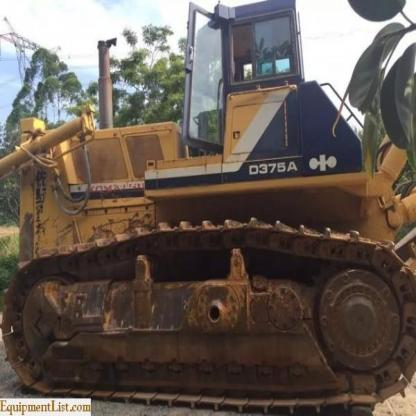bull_dozer/loader/grader: (8, 6, 415, 414)
